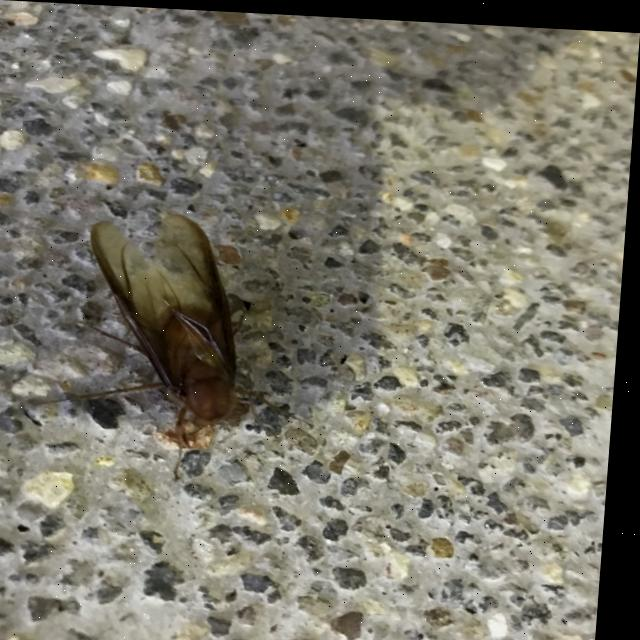Alive-Male-Alate: (36, 206, 333, 486)
